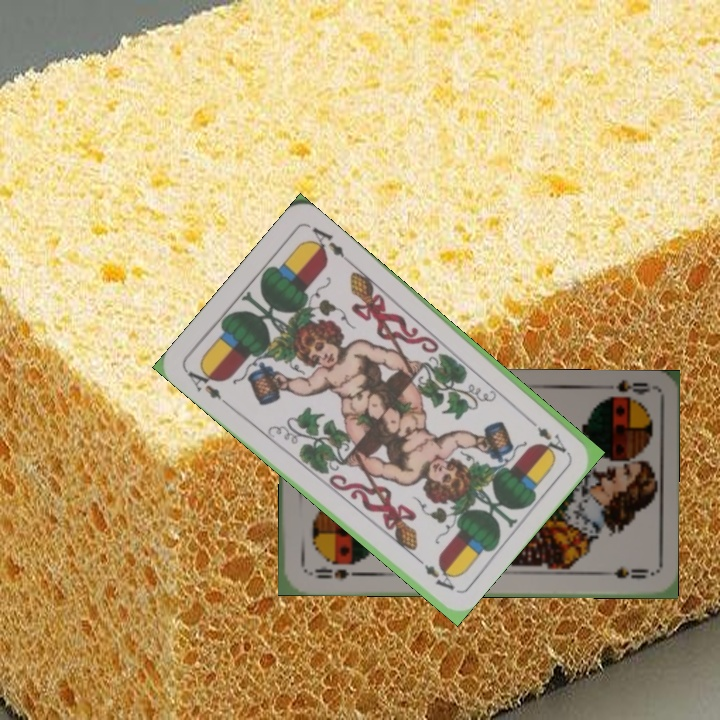EA: (182, 361, 231, 408), (522, 413, 569, 456)
SO: (594, 377, 652, 404), (303, 562, 362, 581)
